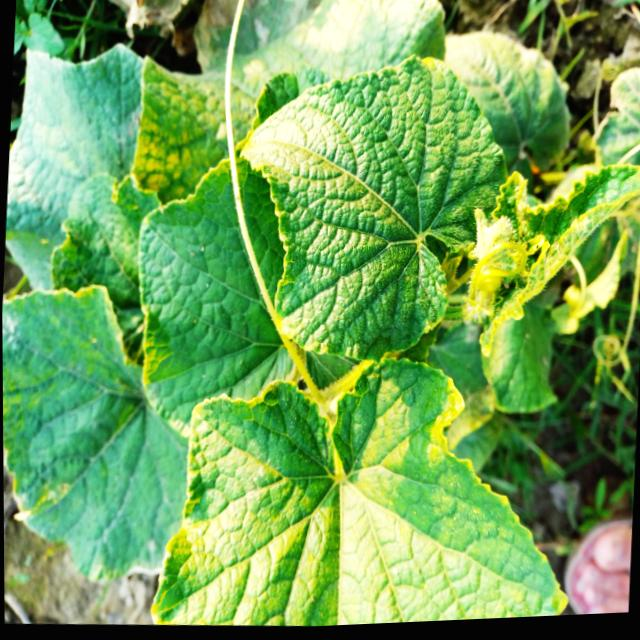Fresh-Leaf: (153, 358, 570, 626), (239, 53, 509, 361)
